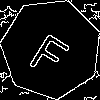F: (26, 24, 77, 79)
